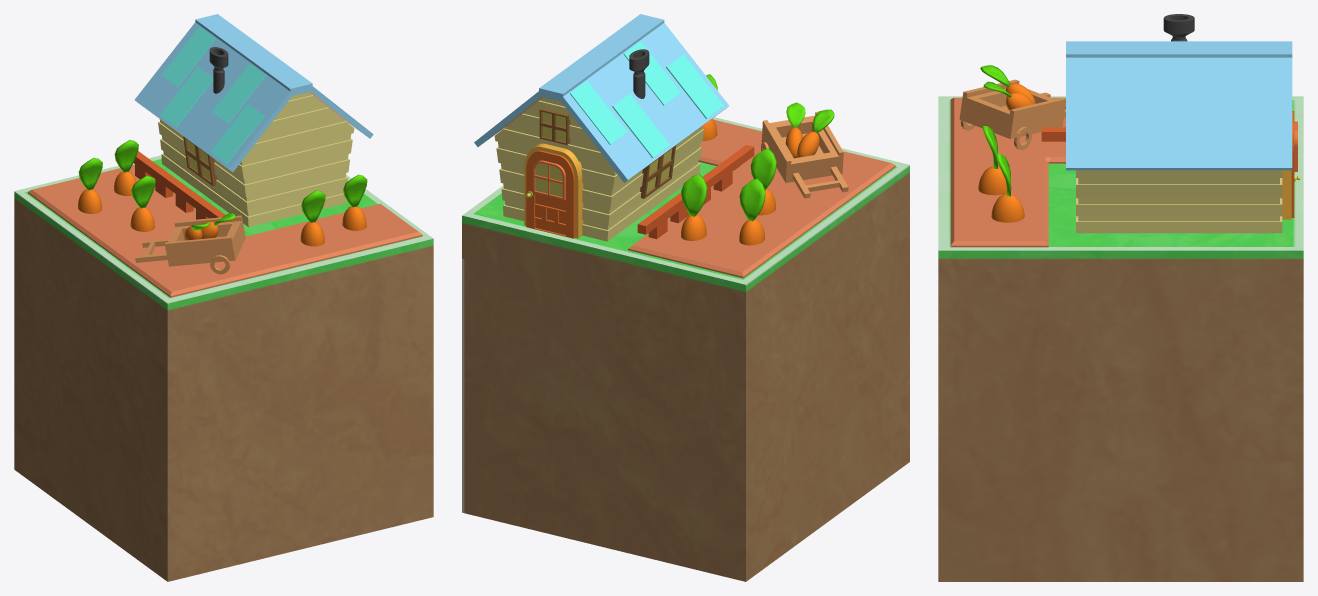
The model's file is home_2.fbx.
3 views of the same model, side by side, from view 1: azimuth 30°, elevation 25°; view 2: azimuth 150°, elevation 25°; view 3: azimuth 270°, elevation 25° (orthographic). The views are drawn at different scales.
Parts seen in each view (by area): view 1: 立方体.013, 立方体, 平面, 平面.001, 立方体.003, 立方体.001; view 2: 立方体.013, 立方体, 平面, 平面.001, 立方体.003, 立方体.001; view 3: 立方体.013, 立方体, 平面, 立方体.003, 平面.001.
Boxes of the visible parts, bbox=[...] form: 立方体.013: bbox=[14, 155, 433, 581]; 立方体: bbox=[134, 14, 373, 227]; 平面: bbox=[28, 164, 422, 297]; 平面.001: bbox=[78, 140, 367, 246]; 立方体.003: bbox=[135, 215, 245, 274]; 立方体.001: bbox=[133, 151, 225, 219]; 立方体.013: bbox=[462, 117, 909, 581]; 立方体: bbox=[474, 14, 729, 241]; 平面: bbox=[628, 119, 895, 278]; 平面.001: bbox=[681, 74, 834, 245]; 立方体.003: bbox=[761, 111, 848, 198]; 立方体.001: bbox=[637, 145, 754, 239]; 立方体.013: bbox=[938, 96, 1303, 581]; 立方体: bbox=[1066, 14, 1300, 233]; 平面: bbox=[950, 97, 1065, 247]; 立方体.003: bbox=[959, 79, 1065, 150]; 平面.001: bbox=[978, 65, 1035, 222].
Bounding box in the file's own units: 200 × 200 × 301.
24 materials, 1 textured.
